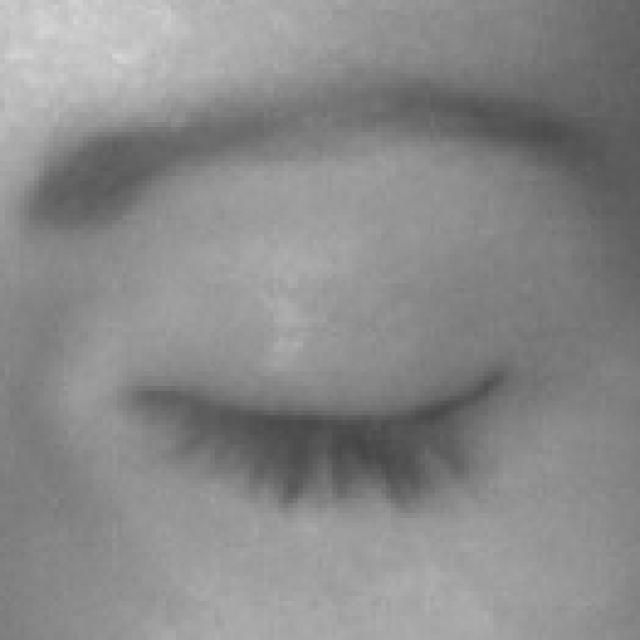Eyeclosed: (130, 252, 503, 635)
